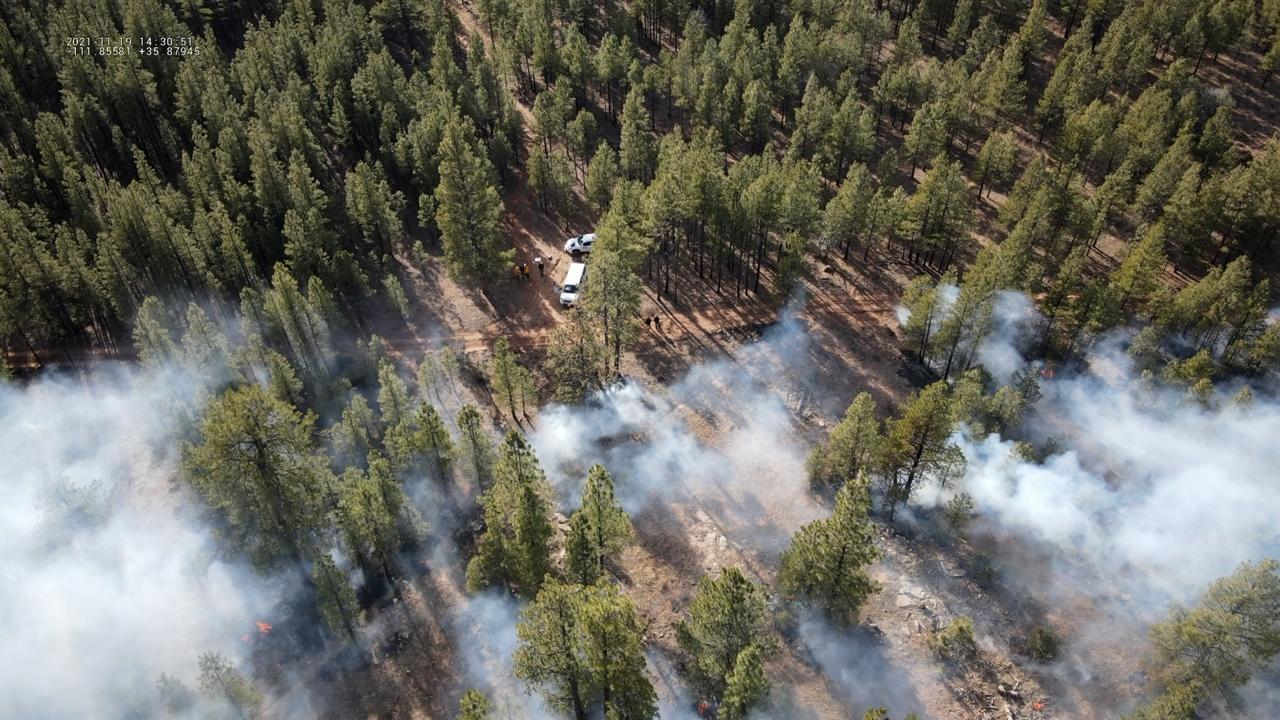fire: (255, 621, 274, 638), (1040, 365, 1057, 378), (698, 700, 710, 715), (238, 634, 251, 645), (709, 714, 713, 720)
smoke: (0, 277, 1280, 720)
